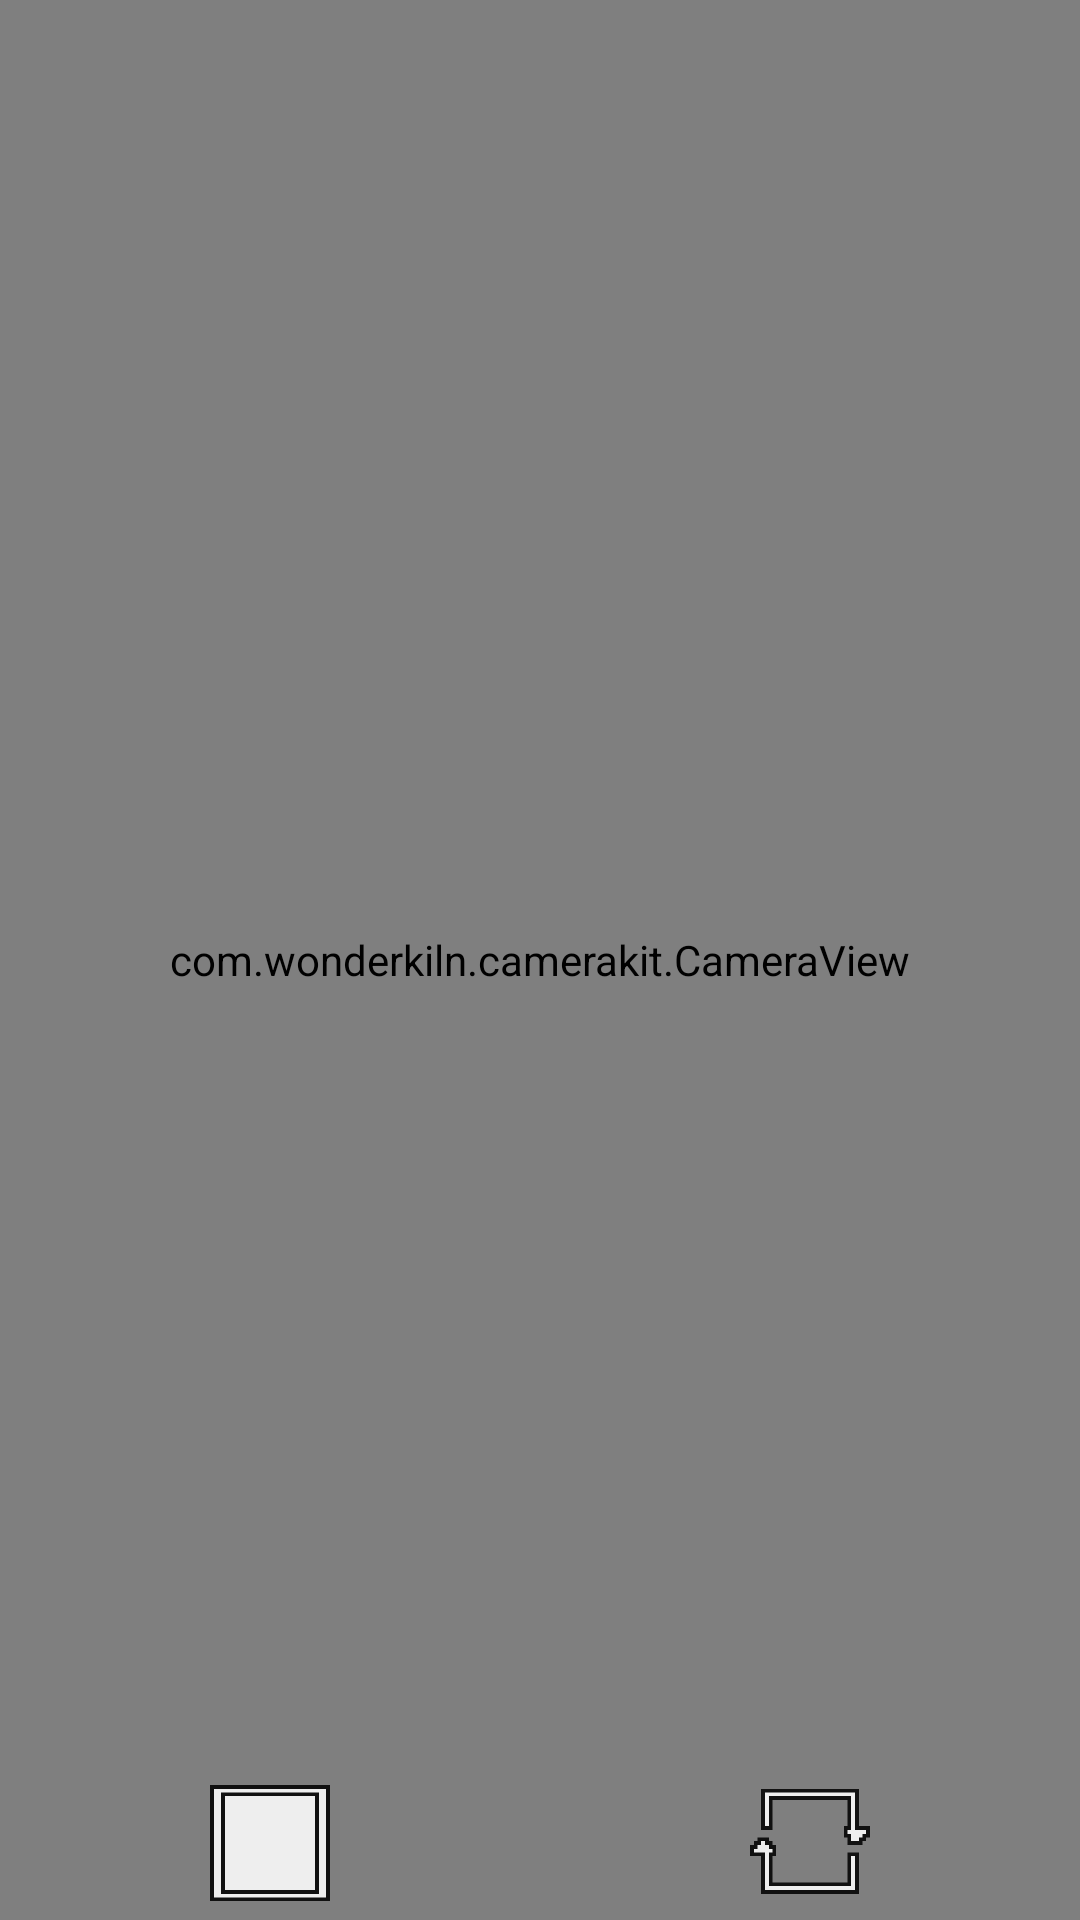

Icons on this 1080x1920 Android screen, each with the point to tap as (x=x, y=y):
toggle: (x=810, y=1841)
